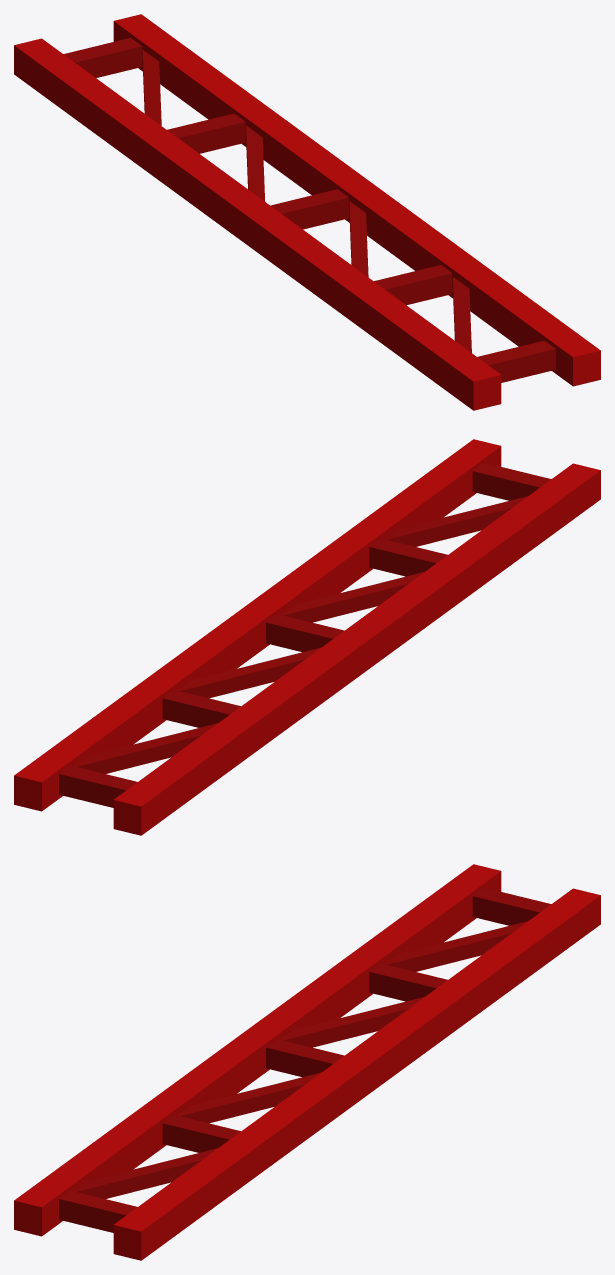
Rendered from debris_girder.glb.
3 views of the same model, one above another, from view 1: azimuth 30°, elevation 25°; view 2: azimuth 150°, elevation 25°; view 3: azimuth 330°, elevation 25° (orthographic).
Parts seen in each view (by area): view 1: debris_girder; view 2: debris_girder; view 3: debris_girder.
Boxes of the visible parts, x1,y1,x2,y2 form: debris_girder: [14, 14, 600, 410]; debris_girder: [14, 439, 600, 835]; debris_girder: [14, 864, 600, 1260].
Size of the model in its own units: 1.28 by 0.28 by 8.
